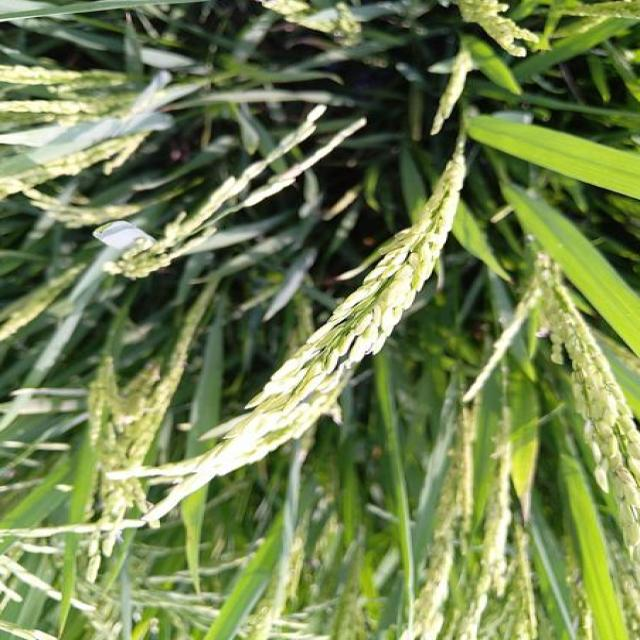Leaf Streak: (510, 430, 539, 524)
